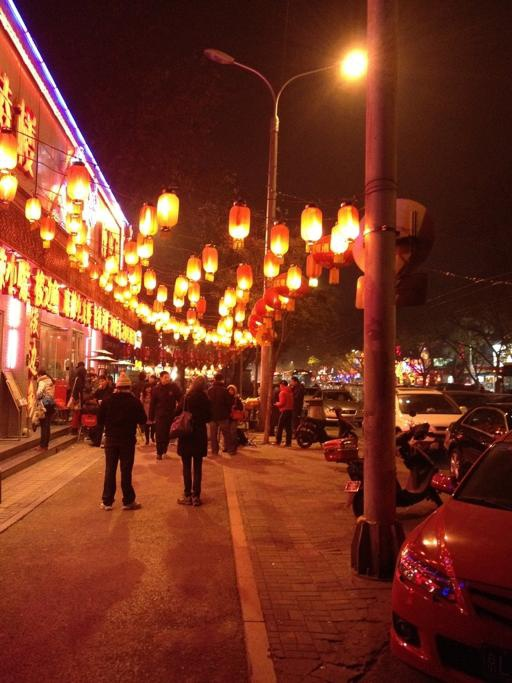non-vehicle: (321, 420, 444, 520), (293, 403, 359, 449)
